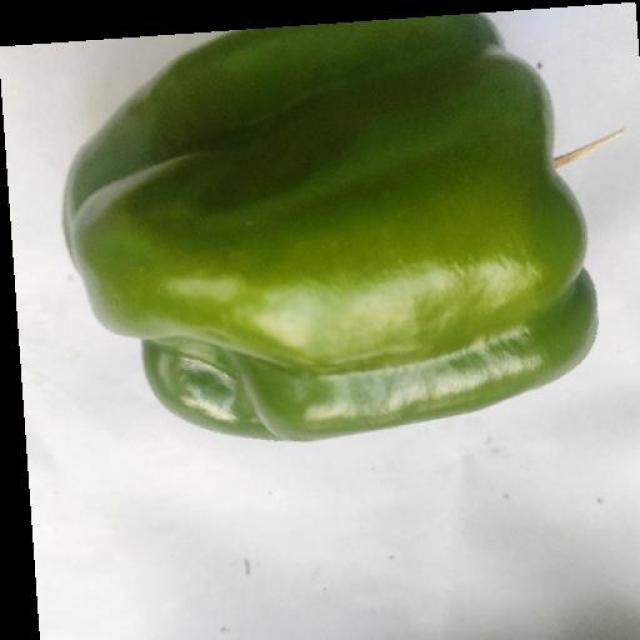Fresh_Capsicum: (61, 12, 614, 392)
